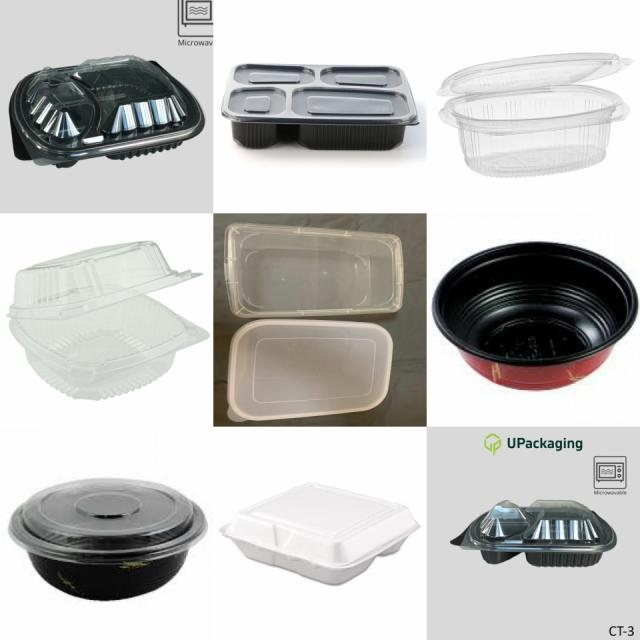Single-Use-Plastic: (9, 241, 209, 399), (432, 242, 638, 389), (9, 479, 206, 600), (10, 56, 205, 167), (220, 484, 419, 584), (439, 85, 629, 177), (224, 222, 404, 318), (228, 319, 392, 422), (221, 64, 419, 149), (451, 500, 616, 566), (438, 52, 632, 96)
